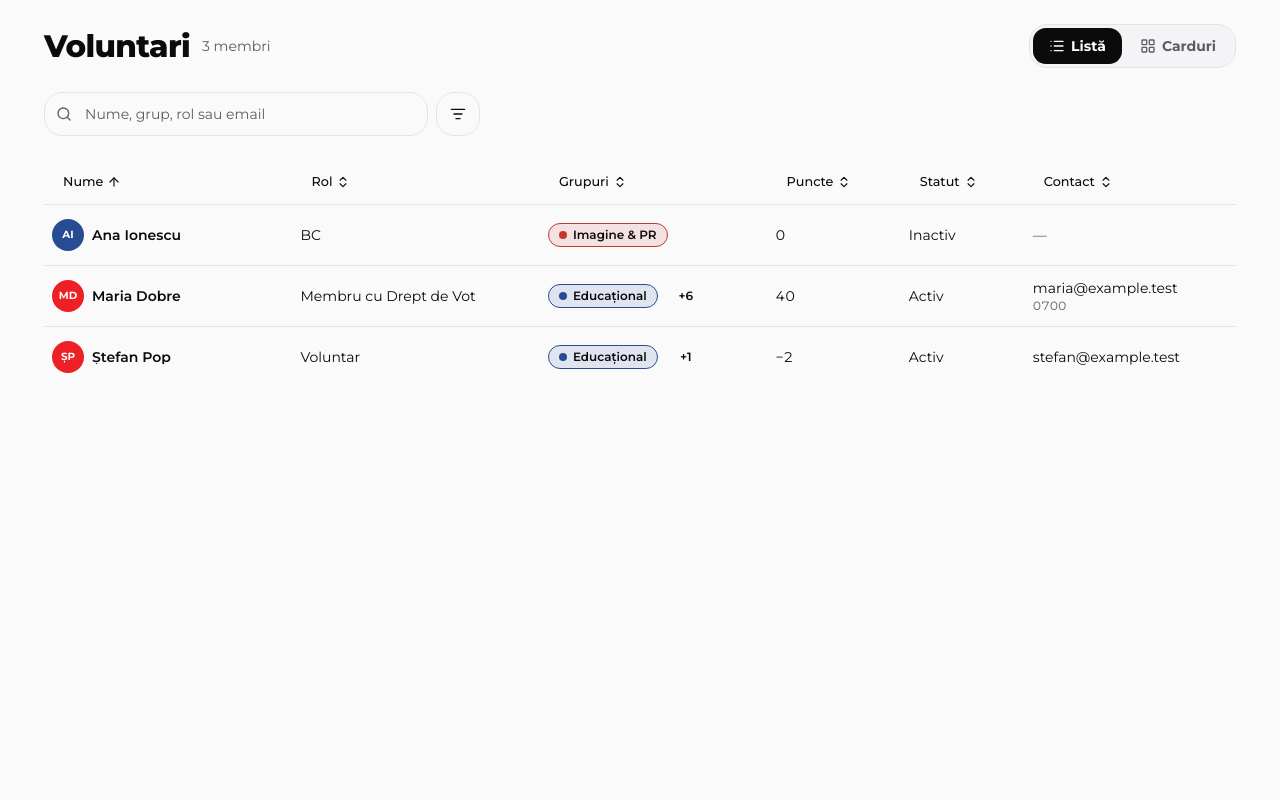
Test: Member directory › opens the Member Card from the Group chip too
Click the button with aria-label "Grupul Educațional. Vezi profilul membrului Maria Dobre" at x=603, y=296, box 548,274 -> 658,318
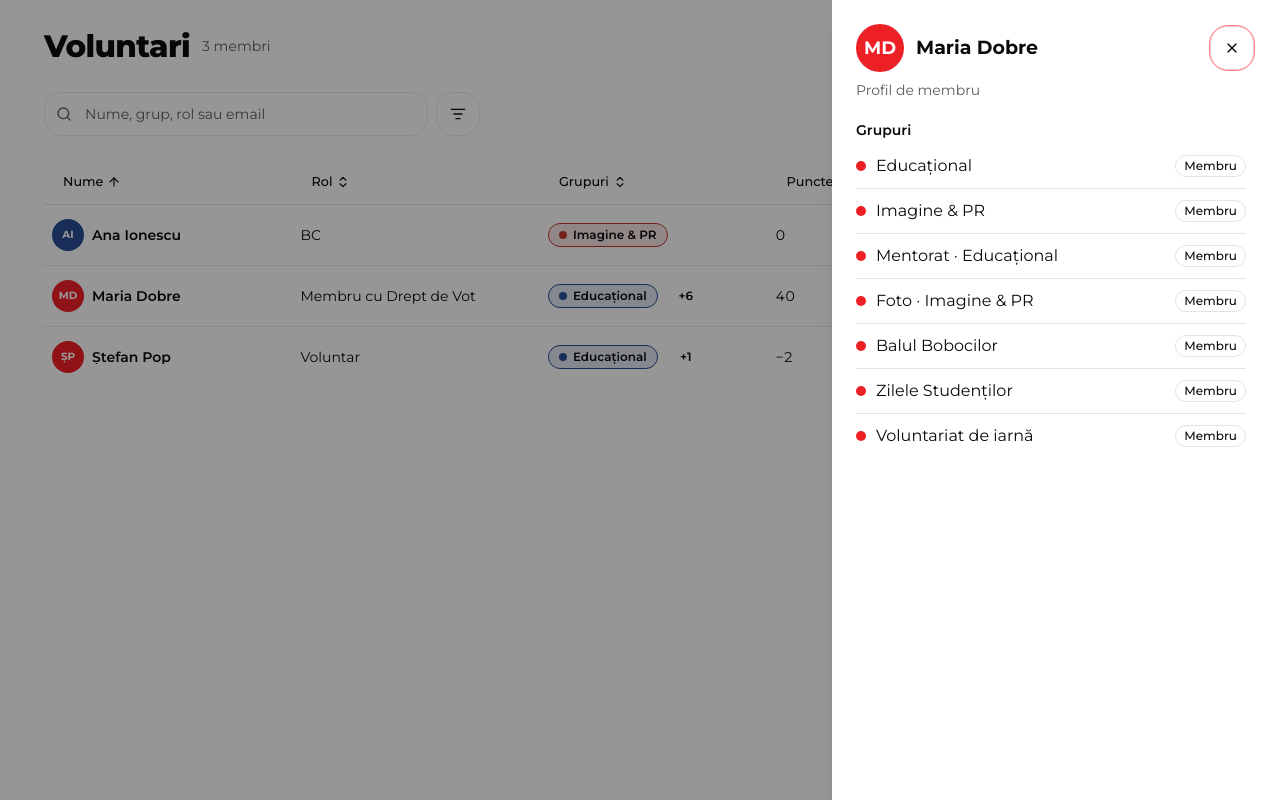
expect the dialog "Maria Dobre" is shown: met, box 832,0 -> 1279,799
